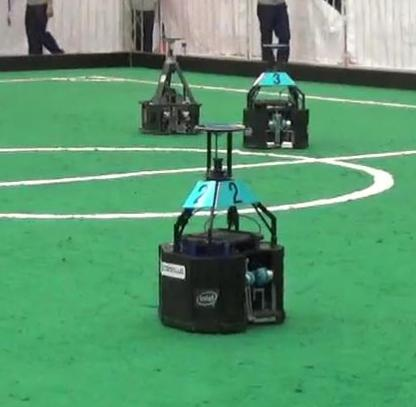robot: (151, 125, 297, 336), (239, 40, 312, 150), (136, 36, 204, 135)
